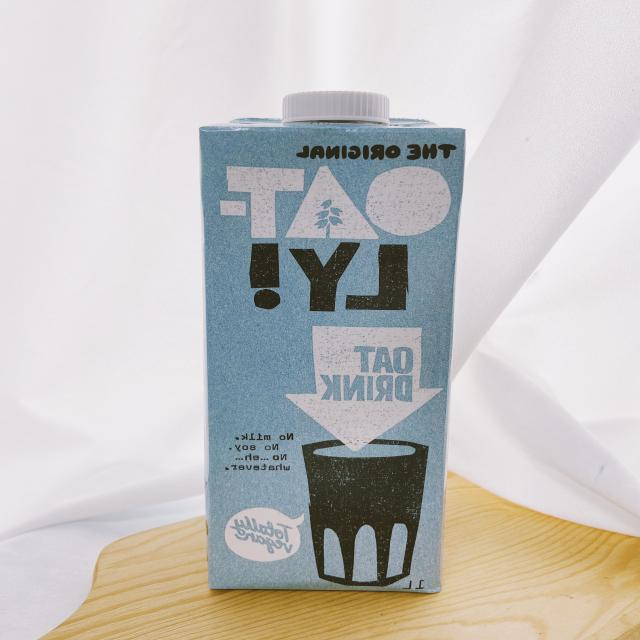cardboard: (192, 85, 458, 596)
